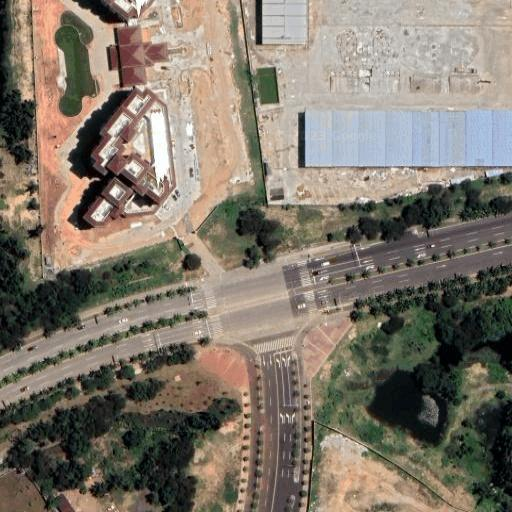building: (78, 87, 171, 229), (306, 110, 512, 166), (109, 24, 169, 87), (261, 0, 308, 45), (53, 494, 75, 512), (448, 173, 475, 186), (485, 169, 501, 177)
